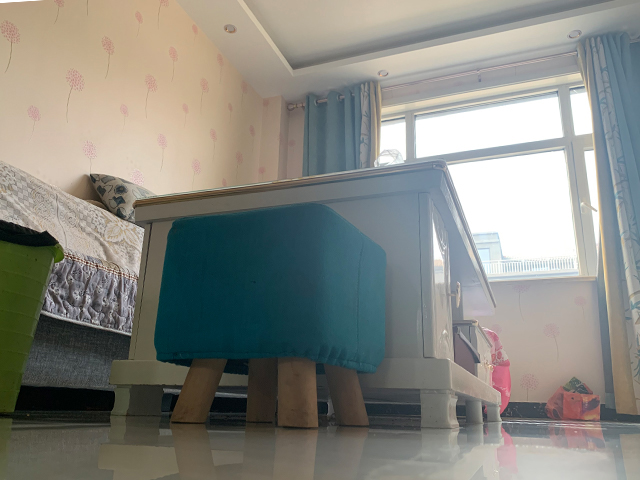book: (561, 392, 602, 424)
curtain: (574, 29, 640, 416)
sofa: (1, 161, 156, 417)
stool: (152, 201, 389, 428)
table: (108, 158, 503, 430)
trashcan: (1, 219, 66, 414)
